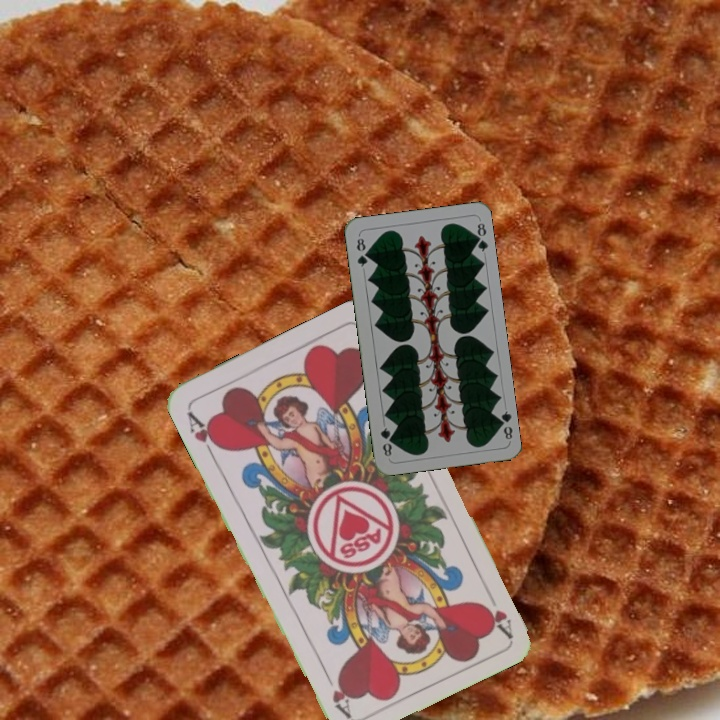G8: (493, 407, 515, 442), (352, 234, 371, 269)
HA: (183, 407, 225, 461), (477, 583, 515, 639)
